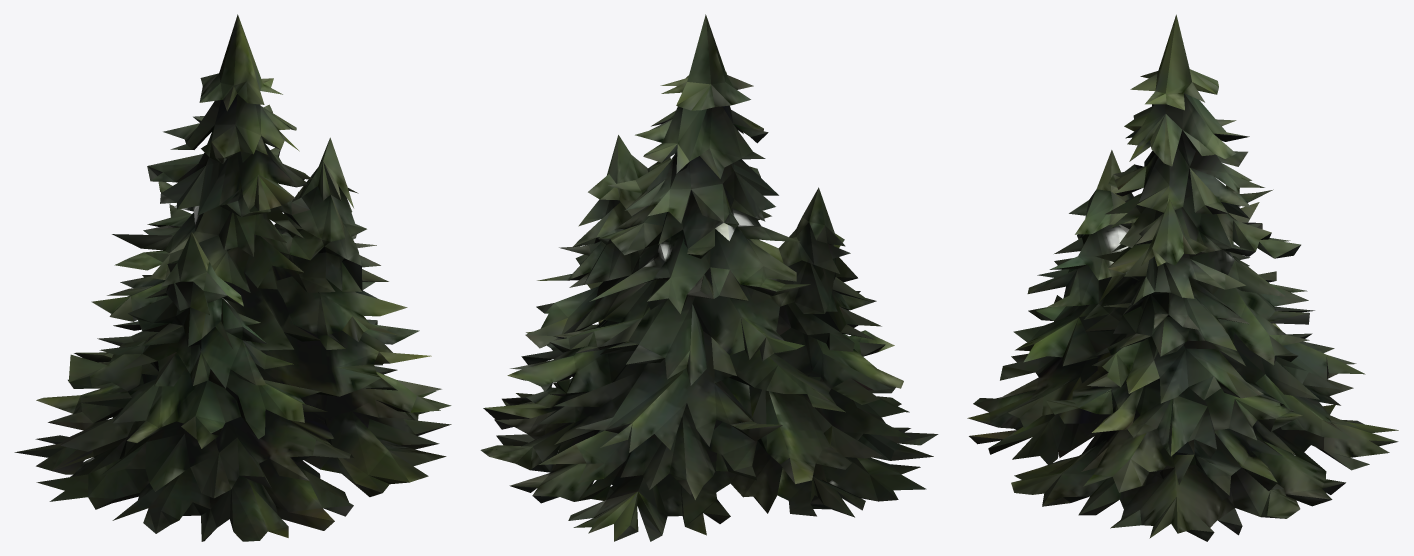
Rendered from tree-4.glb.
The picture shows the model from 3 angles, left to right: view 1: azimuth 30°, elevation 25°; view 2: azimuth 150°, elevation 25°; view 3: azimuth 270°, elevation 25°; orthographic projection. The views are drawn at different scales.
Visible parts, largest first — view 1: geometry_0; view 2: geometry_0; view 3: geometry_0.
Boxes of the visible parts, x1,y1,x2,y2 form: geometry_0: (14,14,451,541); geometry_0: (480,14,938,541); geometry_0: (967,14,1398,541).
Size of the model in its own units: 0.9581 by 1.02 by 0.8965.
1 material, 1 textured.
